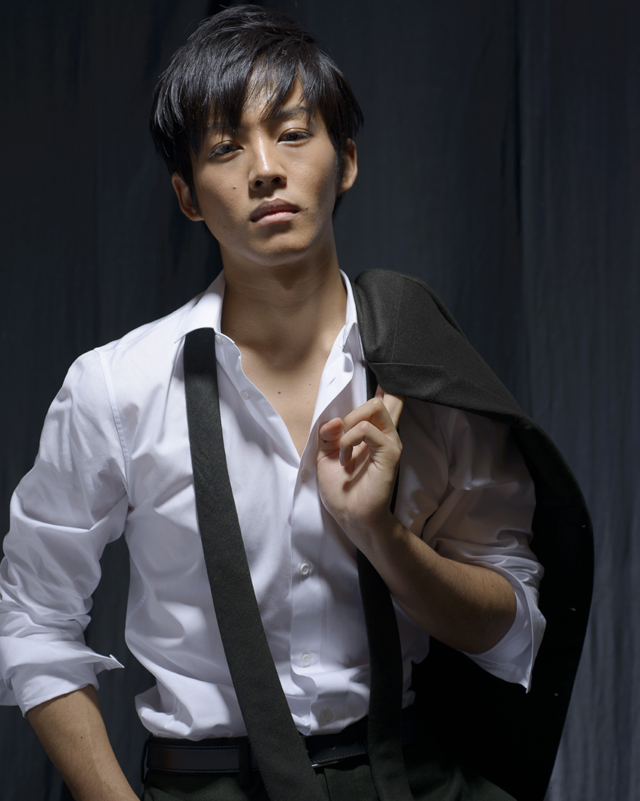face: (174, 63, 358, 265)
hand: (315, 396, 403, 528)
